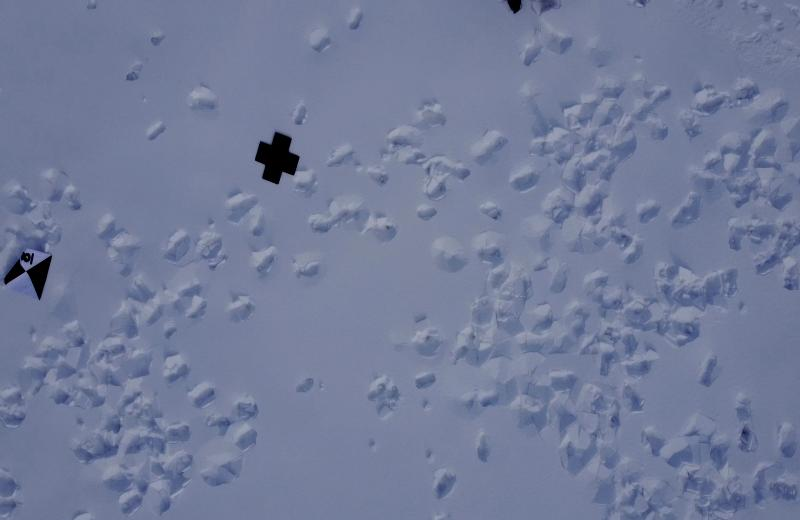Cross: (254, 130, 298, 184)
